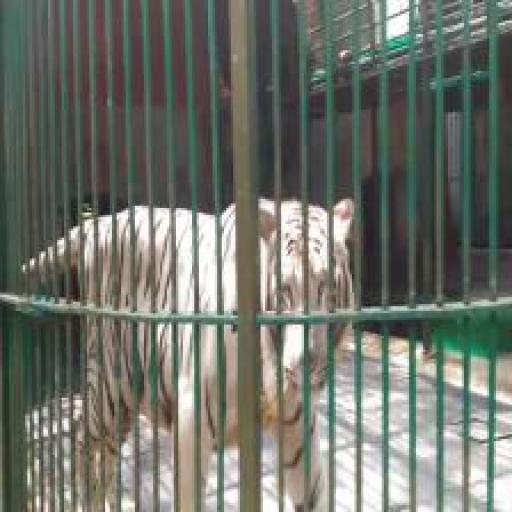Tiger: (23, 178, 355, 512)
